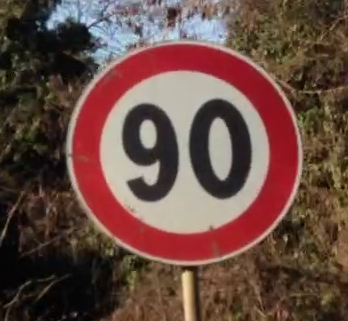limite 90: (60, 36, 308, 269)
